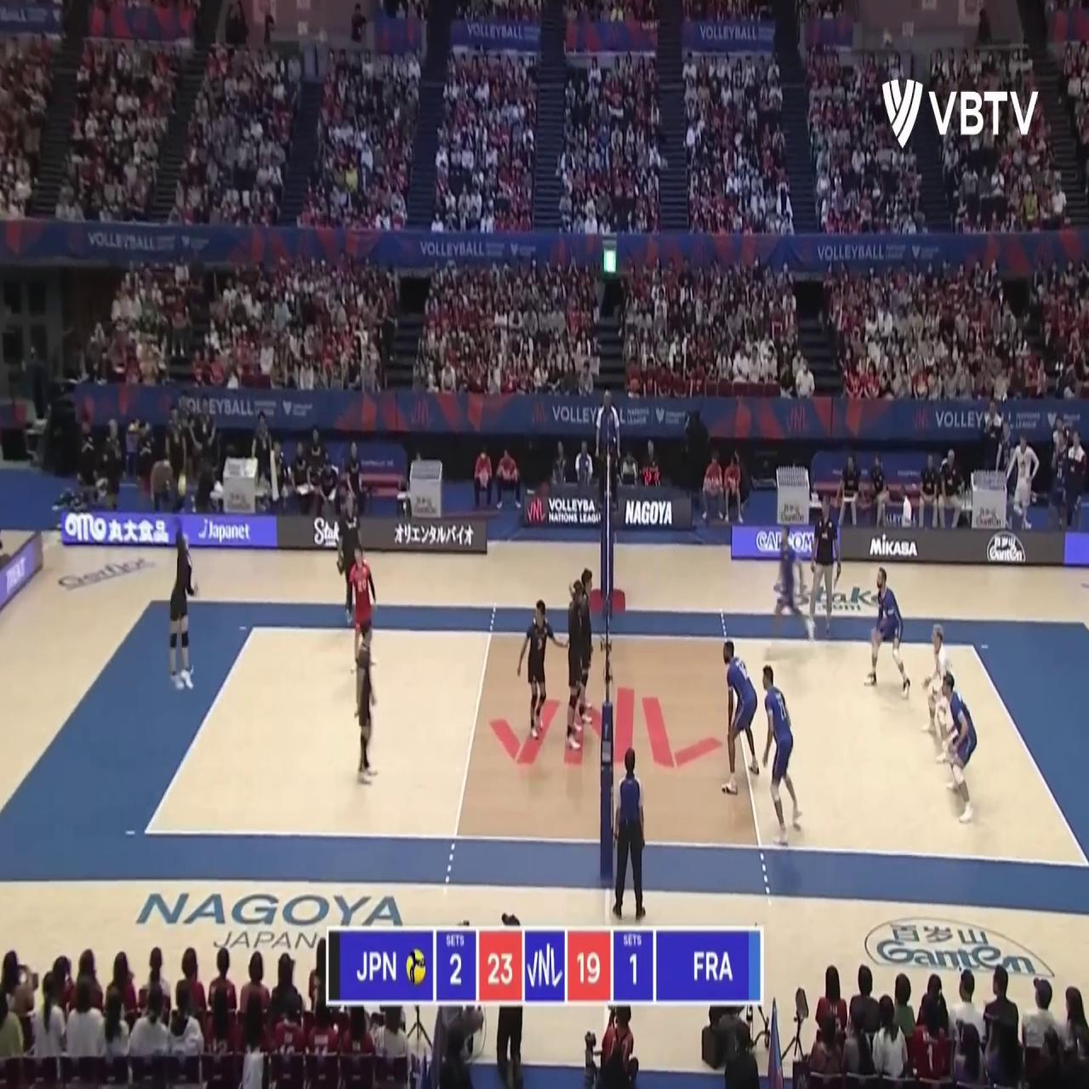ball: (177, 473, 188, 497)
